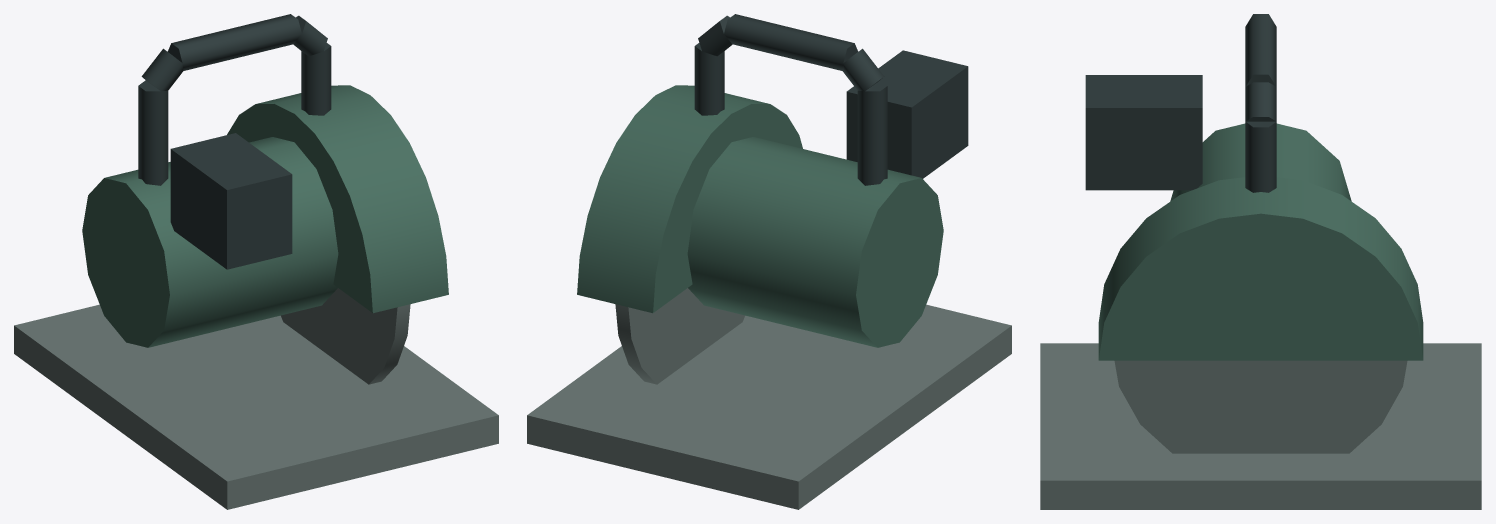
3 views of the same model, side by side, from view 1: azimuth 30°, elevation 25°; view 2: azimuth 150°, elevation 25°; view 3: azimuth 270°, elevation 25° (orthographic). The views are drawn at different scales.
Visible parts, largest first — view 1: part-1, part-4, part-3, part-10, part-2, part-7, part-5, part-9, part-6, part-8; view 2: part-1, part-4, part-3, part-10, part-2, part-7, part-5, part-9, part-6, part-8; view 3: part-3, part-1, part-2, part-10, part-4, part-9, part-7, part-8.
Boxes of the visible parts, <box> form: part-1: <box>14,304,498,509</box>; part-4: <box>82,137,338,347</box>; part-3: <box>227,85,448,313</box>; part-10: <box>170,133,292,269</box>; part-2: <box>281,288,410,384</box>; part-7: <box>167,14,301,70</box>; part-5: <box>138,80,168,185</box>; part-9: <box>301,43,331,115</box>; part-6: <box>141,48,183,91</box>; part-8: <box>293,15,327,56</box>; part-1: <box>527,304,1011,509</box>; part-4: <box>687,137,943,347</box>; part-3: <box>577,85,802,313</box>; part-10: <box>846,50,968,178</box>; part-2: <box>615,288,744,384</box>; part-7: <box>724,14,858,70</box>; part-5: <box>857,80,887,185</box>; part-9: <box>694,43,724,115</box>; part-6: <box>842,48,884,91</box>; part-8: <box>698,15,732,56</box>; part-3: <box>1098,177,1423,360</box>; part-1: <box>1040,343,1481,509</box>; part-2: <box>1114,360,1407,453</box>; part-10: <box>1085,75,1202,190</box>; part-4: <box>1170,123,1351,201</box>; part-9: <box>1245,121,1276,192</box>; part-7: <box>1245,14,1276,86</box>; part-8: <box>1245,82,1276,121</box>.
Bounding box in the file's own units: 0.25 × 0.3279 × 0.34.
